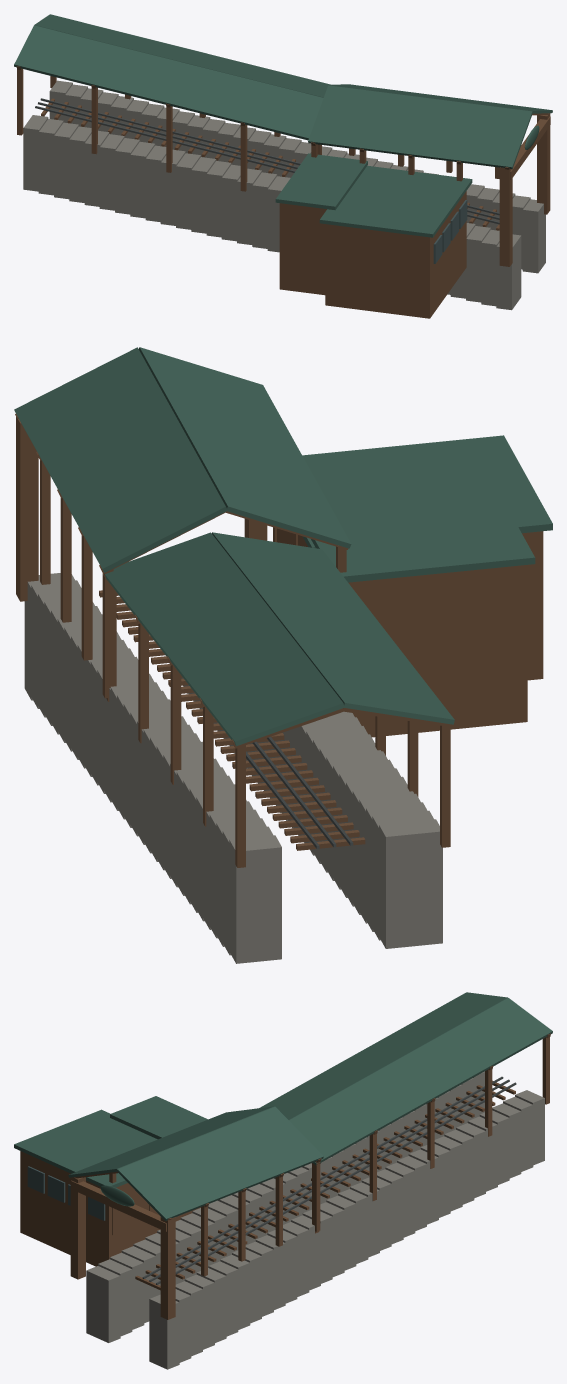
The model's file is maya-cable-station.glb.
3 renders of one model, top to bottom at view 1: azimuth 30°, elevation 25°; view 2: azimuth 150°, elevation 25°; view 3: azimuth 270°, elevation 25°, orthographic. The views are drawn at different scales.
Size of the model in its own units: 25.18 by 12.24 by 29.63.
